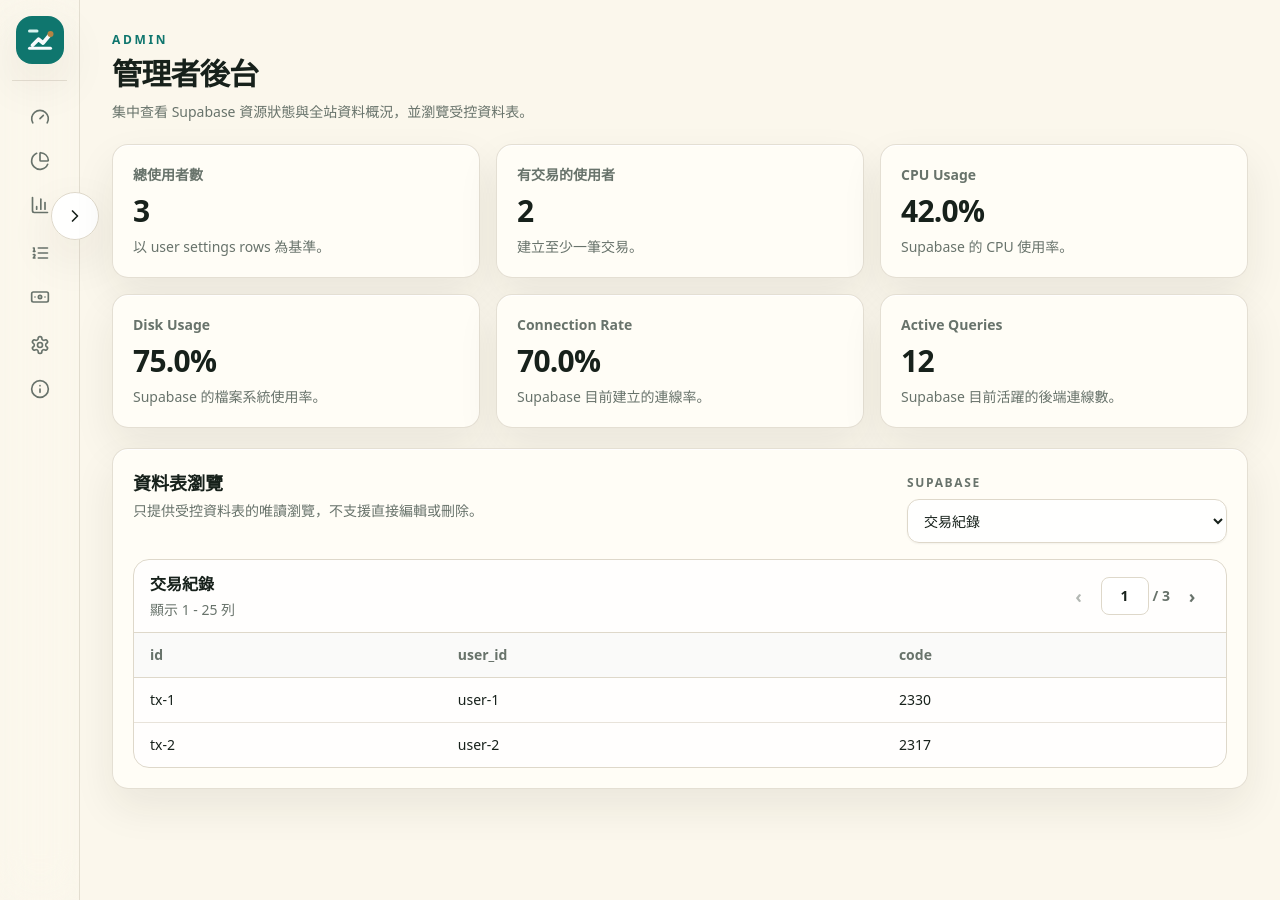
Scenario: App › paginates the admin table and requests later pages
The width and height of the screenshot is (1280, 900).
expect the text "顯示 1 - 25 列" is shown: met, box [150,600,235,620]
Click the button "›". click: click(1192, 596)
box: [1174,578,1210,614]
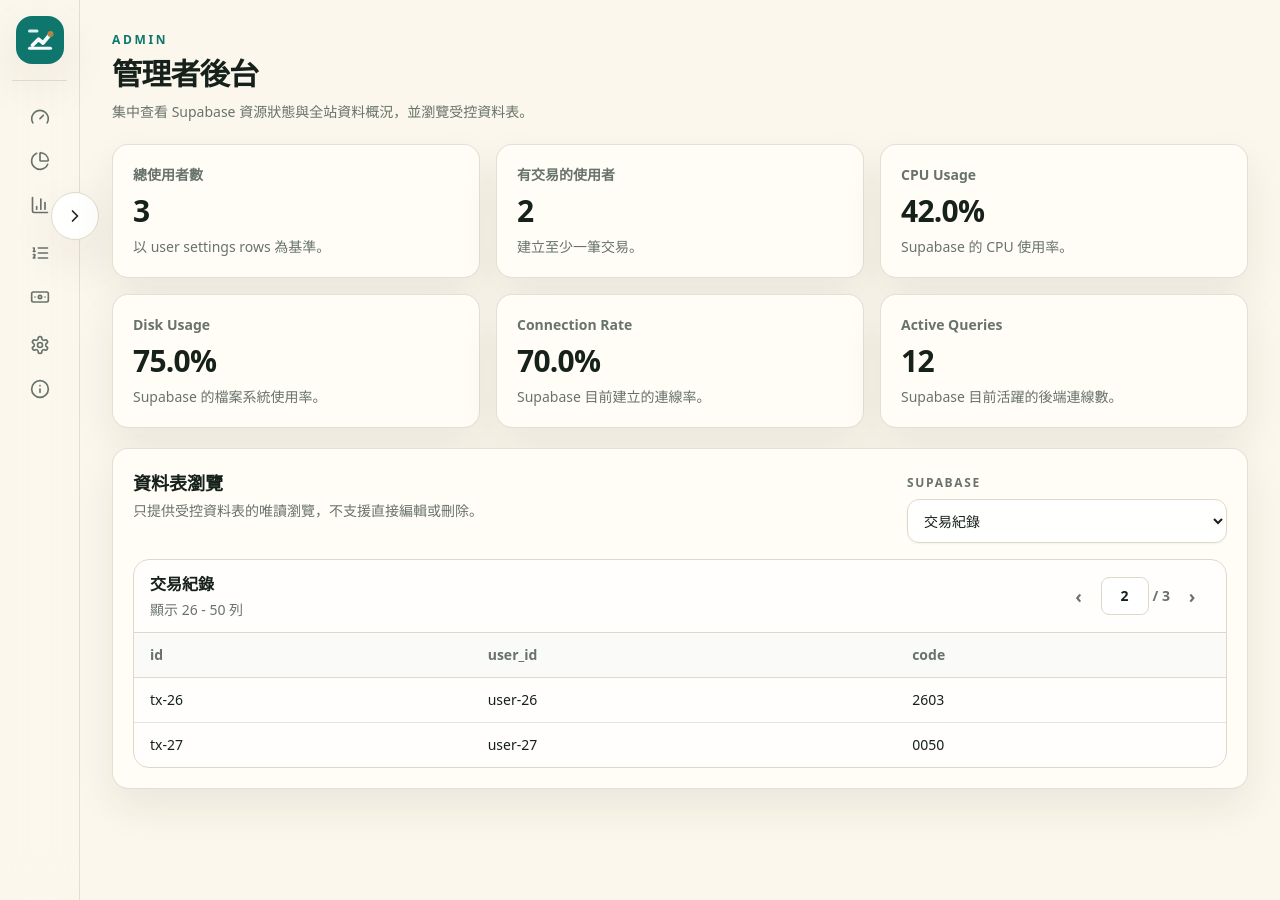
expect the text "2603" is shown: met, box [896,678,1226,722]
expect the text "顯示 26 - 50 列" is shown: met, box [150,600,243,620]
